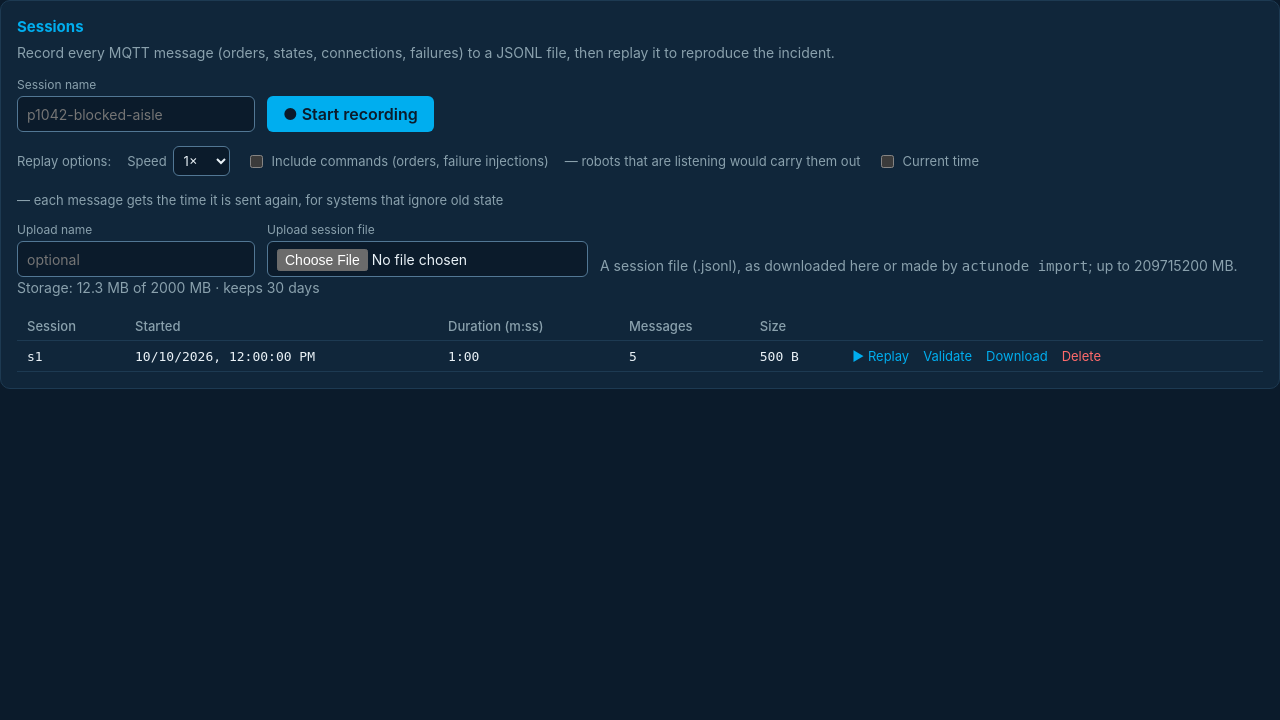
Test: sessions: validate, upload, storage (D-40, D-41) › shows validation counts, rules and the first 10 issues
What coordinates should you click on to do the following:
click the button with aria-label "Validate session s1"
I would click on:
 (948, 356)
Its box is [923,348,972,364].
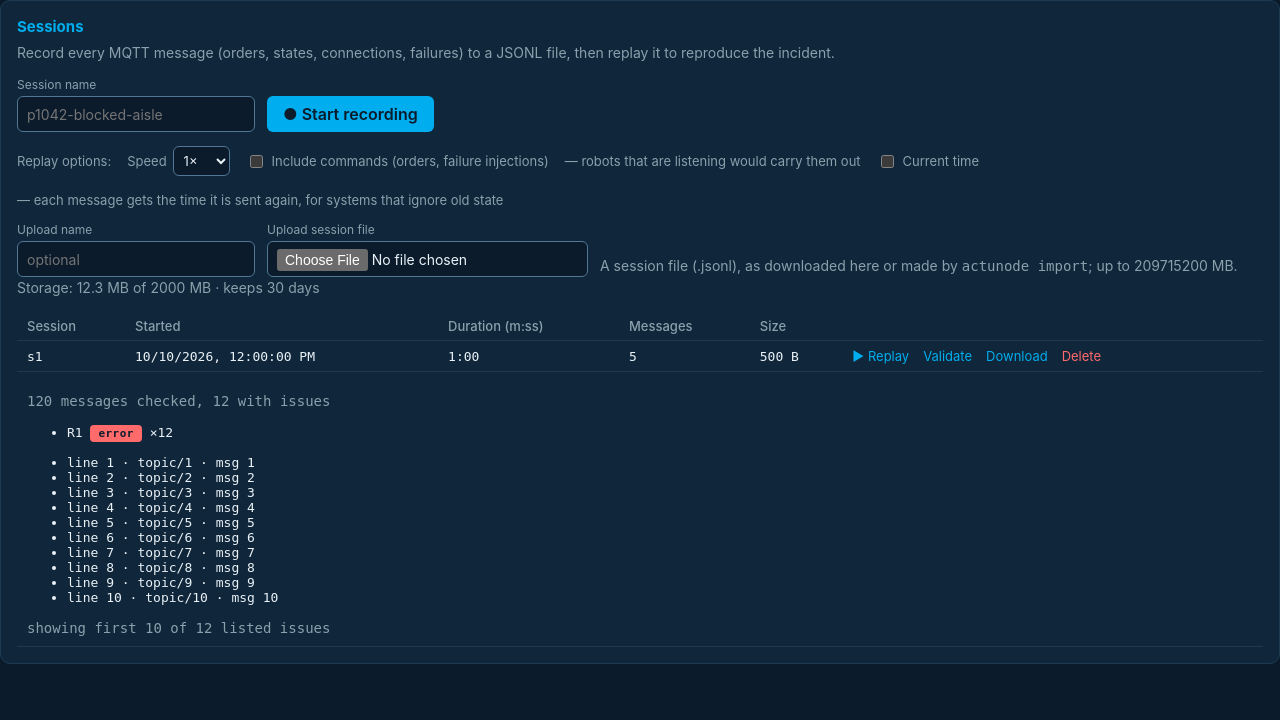
Check: the text "120 messages checked, 12 with issues" is shown, box [27,393,330,409]
Check: the text "R1" is shown, box [67,425,83,440]
Check: the list item "line 10 · topic/10 · msg 10" is shown, box [67,590,278,605]
